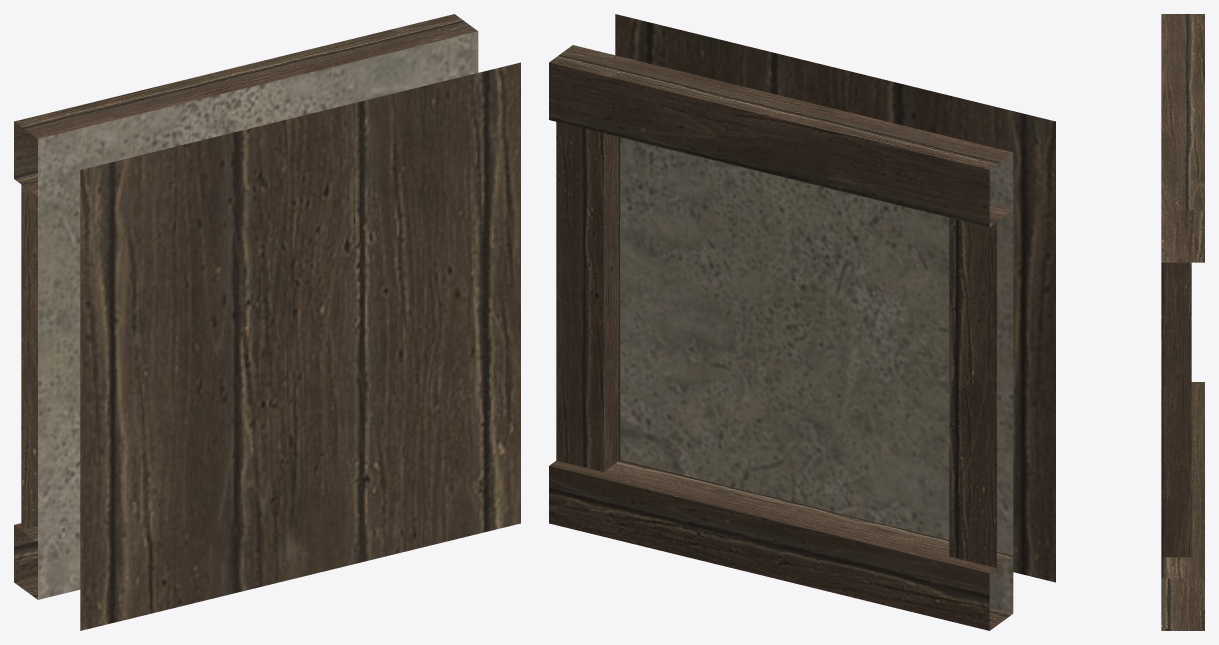
Rendered from ARC1010304.fbx.
3 renders of one model, left to right at view 1: azimuth 30°, elevation 25°; view 2: azimuth 150°, elevation 25°; view 3: azimuth 270°, elevation 25°, orthographic. The views are drawn at different scales.
Visible parts, largest first — view 1: smARC1010304; view 2: smARC1010304; view 3: smARC1010304.
Boxes of the visible parts, bbox=[...] form: smARC1010304: bbox=[14, 14, 520, 630]; smARC1010304: bbox=[549, 14, 1055, 630]; smARC1010304: bbox=[1161, 14, 1204, 630].
Bounding box in the file's own units: 134 × 134 × 34.9.
1 material, 1 textured.
